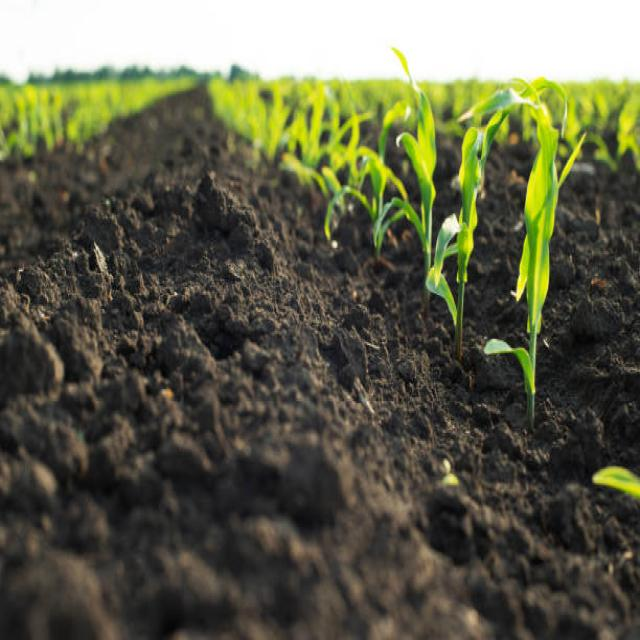suelo_humedo: (53, 89, 586, 557)
